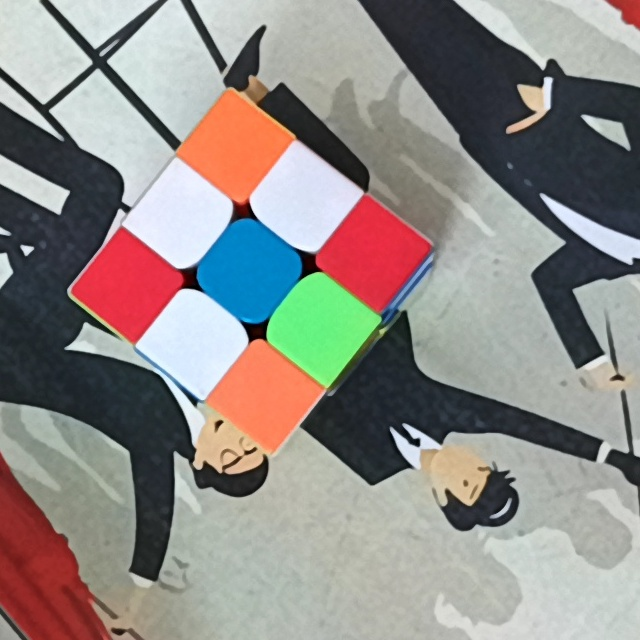tile: (290, 294, 354, 355), (165, 311, 230, 371), (235, 366, 298, 427), (344, 222, 405, 280), (276, 167, 331, 231), (101, 254, 158, 315), (222, 242, 279, 301), (205, 121, 262, 178), (153, 188, 211, 244)
